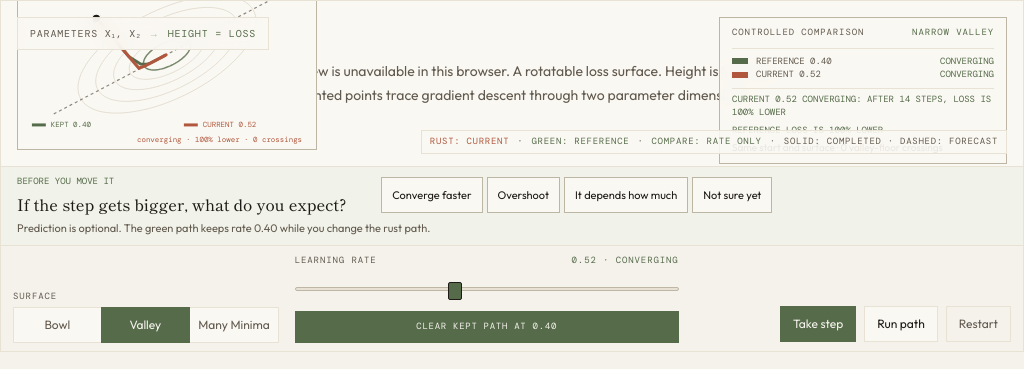
Test case: GradientDescentScene › lets the learner predict, then responds to computed instability
Expected: the text "If the step gets bigger, what do you expect?" is shown, [17, 192, 361, 216]
Click the button "Converge faster". click: (432, 195)
box: [381, 177, 482, 213]
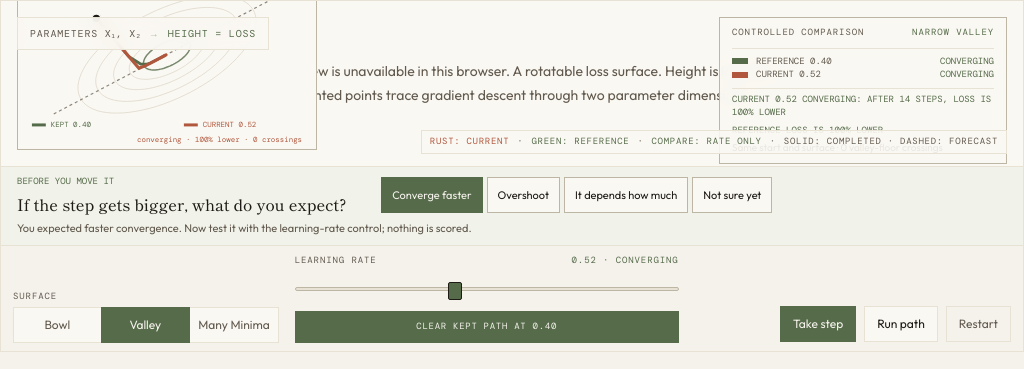
Set the slider labelled "Learning rate" to "1.06". click: (626, 289)
box: [295, 271, 679, 307]
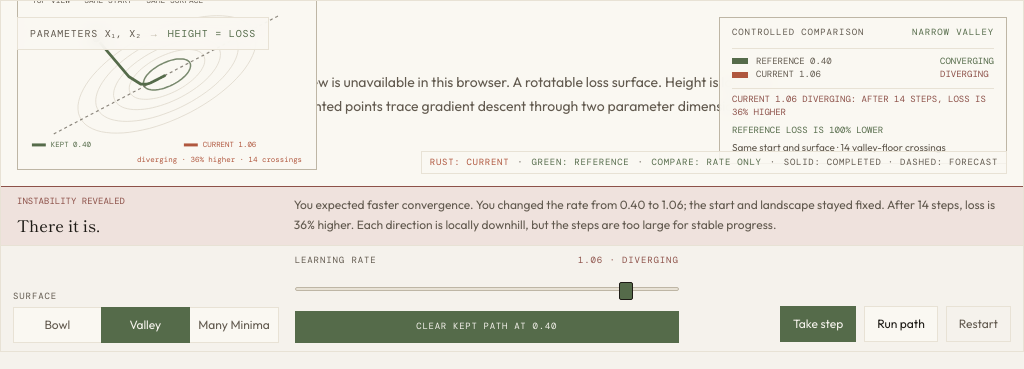
Now the text "There it is." is shown, box [17, 212, 100, 236]
